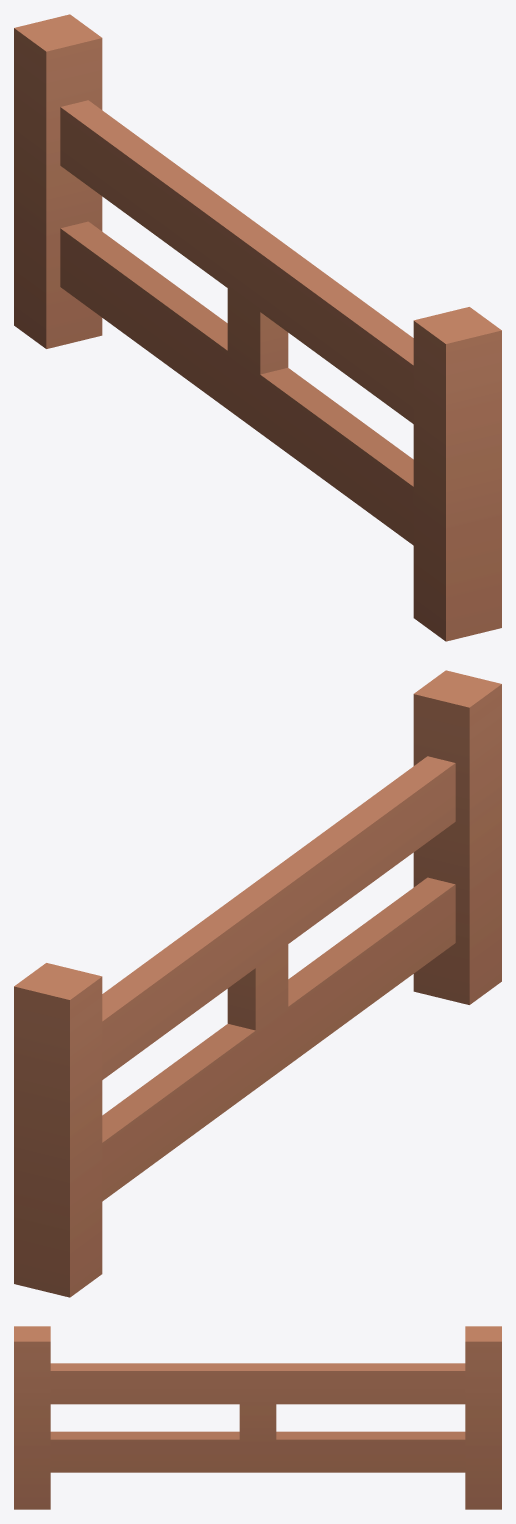
The model's file is staket.glb.
3 views of the same model, one above another, from view 1: azimuth 30°, elevation 25°; view 2: azimuth 150°, elevation 25°; view 3: azimuth 270°, elevation 25° (orthographic). The views are drawn at different scales.
Visible parts, largest first — view 1: fence; view 2: fence; view 3: fence.
Part boxes in pixels (x1,y1,x2,y2): fence: (14,14,501,641); fence: (14,670,501,1297); fence: (14,1326,501,1509).
Size of the model in its own units: 0.075 by 0.38 by 1.
1 material, 1 textured.
